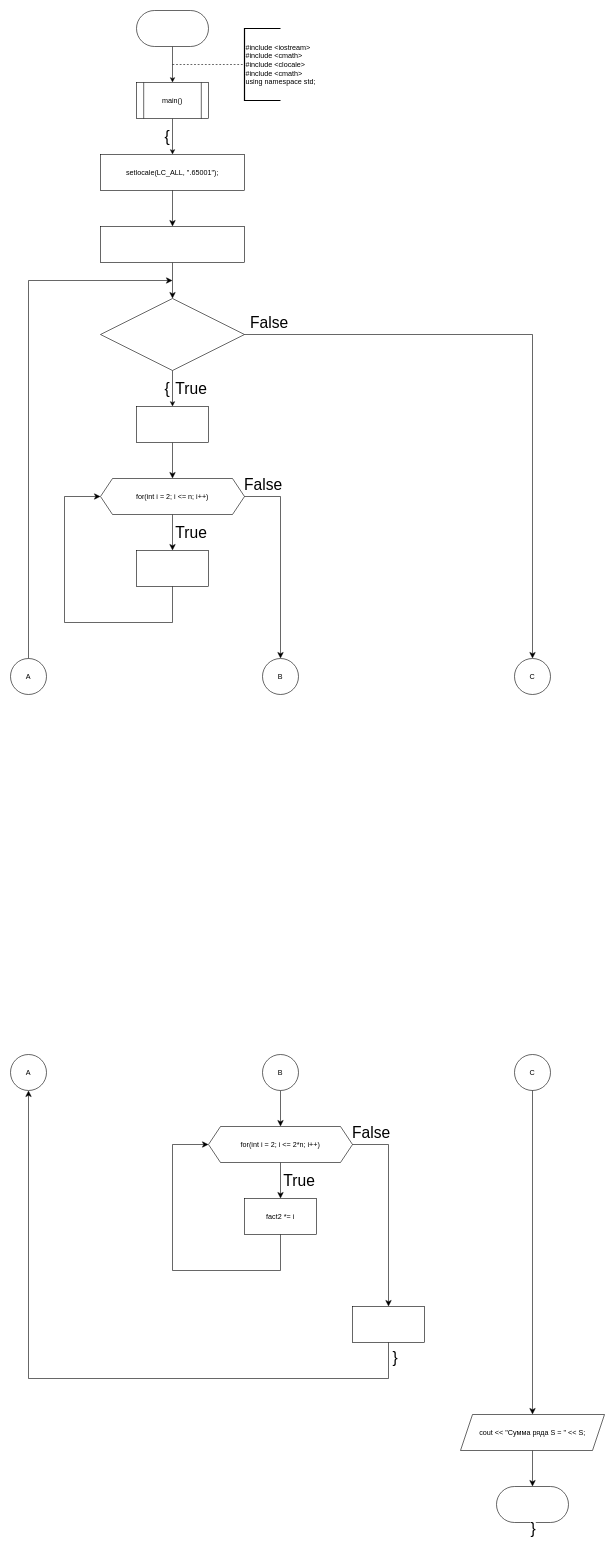
This 615x1549 diagram has some shape labels left out. Each missing label, with the centre of its shape:
"a = fact1 / fact2;" goes at [388,1324].
"double eps = 1e-4, S = 0, a = 0.5; int n = 1;" goes at [172,244].
"fact1 *= i" goes at [172,568].
"return 0;" goes at [532,1504].
"S += a; n++; double fact1 = 1; double fact2 = 1;" goes at [172,424].
"while(fabs(a) >= eps)" goes at [172,334].
"НАЧАЛО" goes at [172,28].
